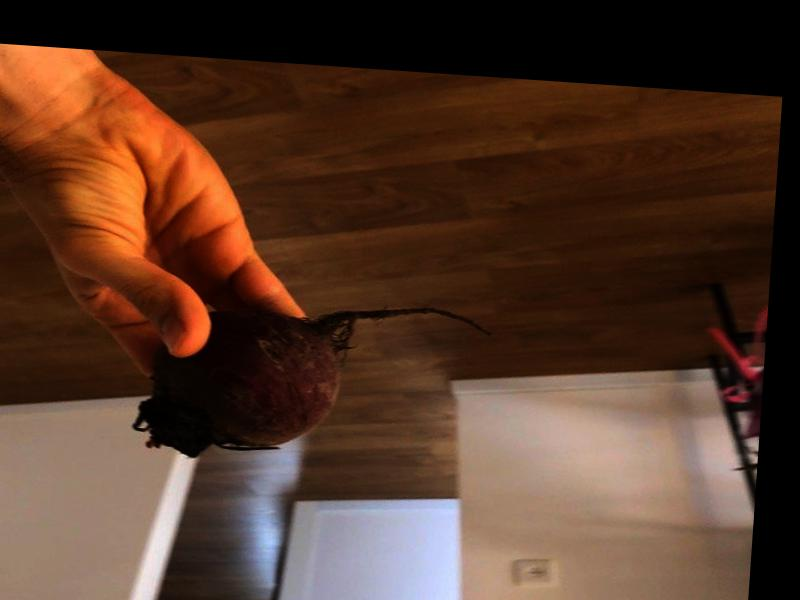Beet: (136, 289, 495, 475)
